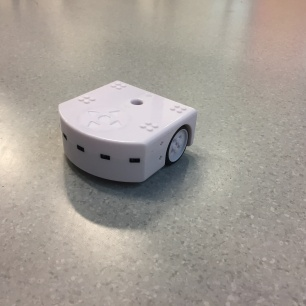thymio: (55, 79, 200, 187)
